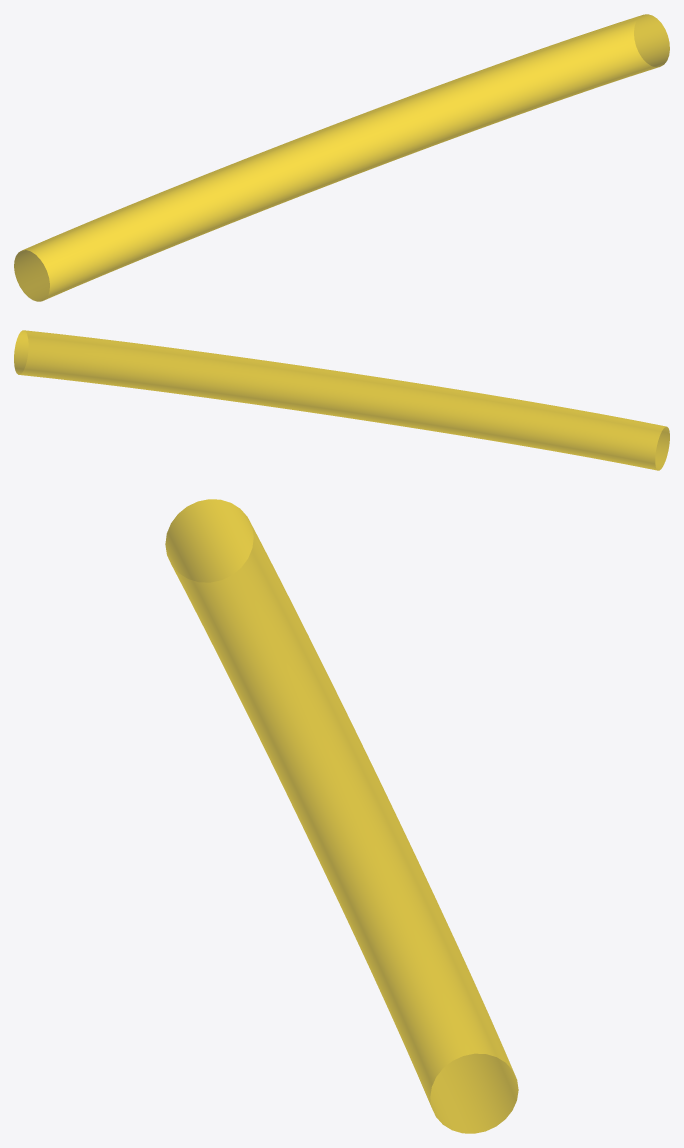
Rendered from Event_84804159_track_83.fbx.
The picture shows the model from 3 angles, top to bottom: view 1: azimuth 30°, elevation 25°; view 2: azimuth 150°, elevation 25°; view 3: azimuth 270°, elevation 25°; orthographic projection. The views are drawn at different scales.
Visible parts, largest first — view 1: Model; view 2: Model; view 3: Model.
Part boxes in pixels (left/top/right/bottom): Model: left=14, top=14, right=669, bottom=301; Model: left=14, top=330, right=669, bottom=470; Model: left=165, top=499, right=518, bottom=1133.
Bounding box in the file's own units: 0.5975 × 0.0483 × 0.1568.
